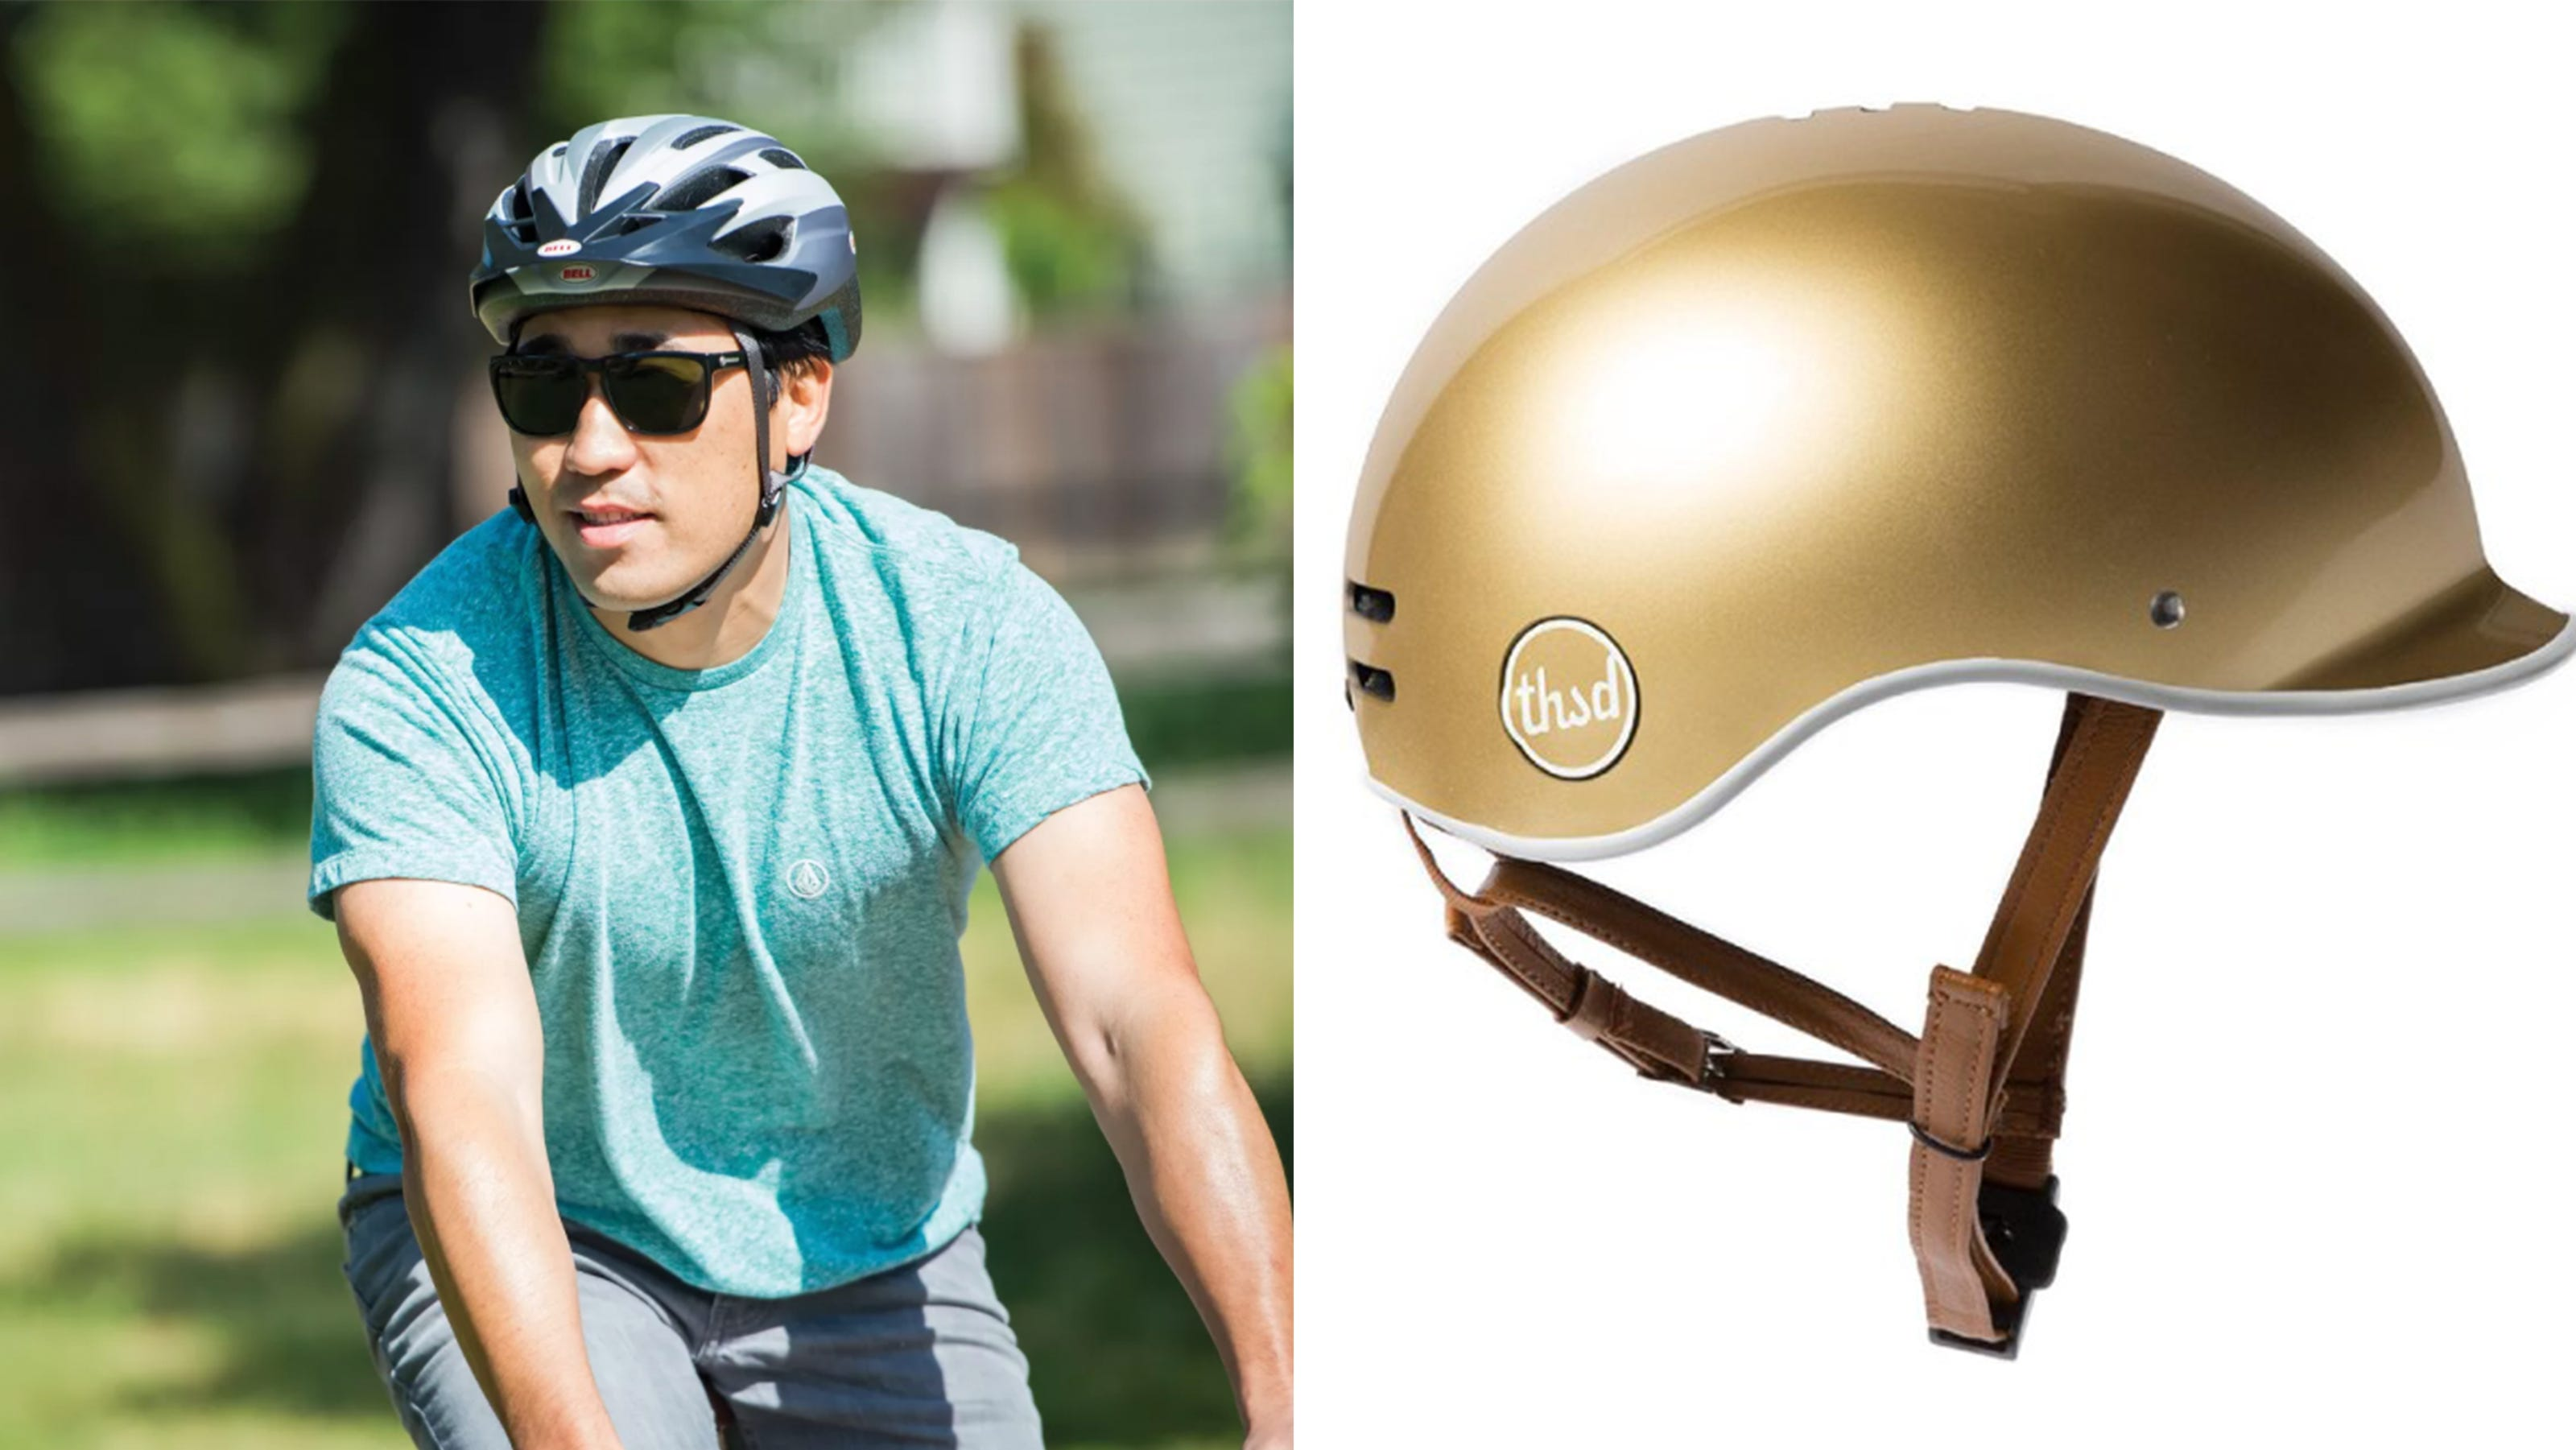helmet: (472, 115, 863, 629)
